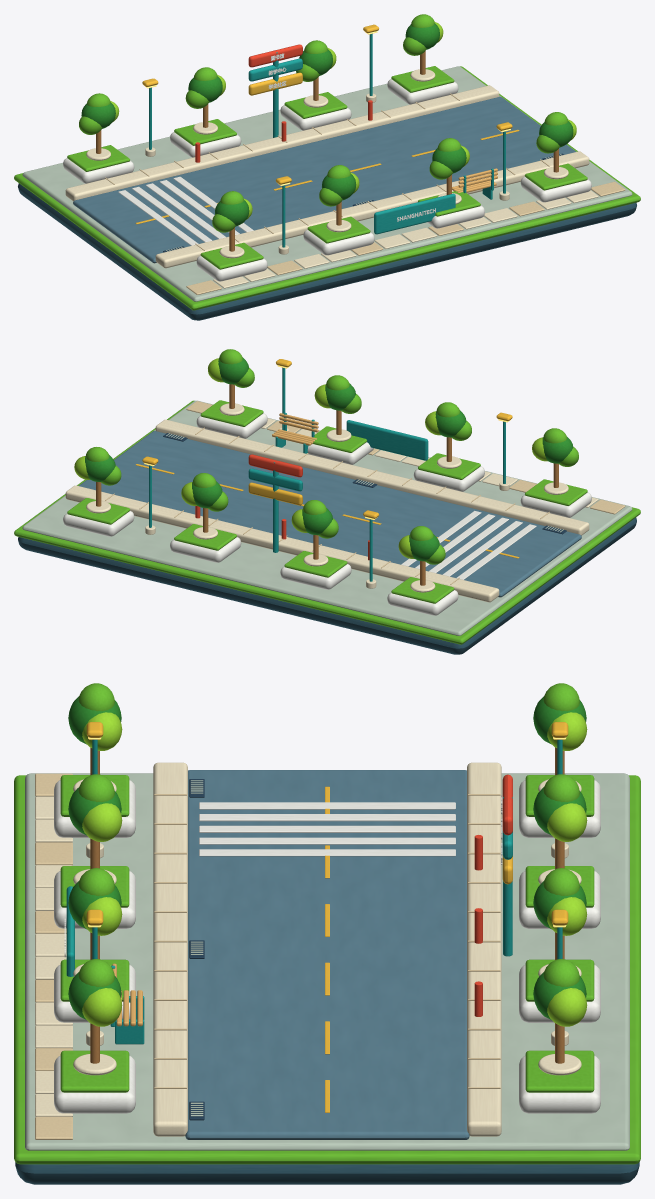
File: 07_campus_main_avenue.glb
3 renders of one model, top to bottom at view 1: azimuth 30°, elevation 25°; view 2: azimuth 150°, elevation 25°; view 3: azimuth 270°, elevation 25°, orthographic. The views are drawn at different scales.
Parts seen in each view (by area): view 1: 07_campus_main_avenue_Architecture, 07_campus_main_avenue_Display_Base, 07_campus_main_avenue_Landscaping; view 2: 07_campus_main_avenue_Architecture, 07_campus_main_avenue_Display_Base, 07_campus_main_avenue_Landscaping; view 3: 07_campus_main_avenue_Architecture, 07_campus_main_avenue_Display_Base, 07_campus_main_avenue_Landscaping.
Part boxes in pixels (x1=…): 07_campus_main_avenue_Architecture: x1=65, y1=44, x2=589, y2=268; 07_campus_main_avenue_Display_Base: x1=14, y1=66, x2=640, y2=320; 07_campus_main_avenue_Landscaping: x1=63, y1=14, x2=591, y2=281; 07_campus_main_avenue_Architecture: x1=65, y1=419, x2=589, y2=602; 07_campus_main_avenue_Display_Base: x1=14, y1=400, x2=640, y2=654; 07_campus_main_avenue_Landscaping: x1=63, y1=349, x2=591, y2=615; 07_campus_main_avenue_Architecture: x1=66, y1=762, x2=512, y2=1139; 07_campus_main_avenue_Display_Base: x1=14, y1=773, x2=640, y2=1184; 07_campus_main_avenue_Landscaping: x1=54, y1=683, x2=600, y2=1113.
Bounding box in the file's own units: 13.03 × 3.26 × 9.03.
3 materials, 3 textured.
